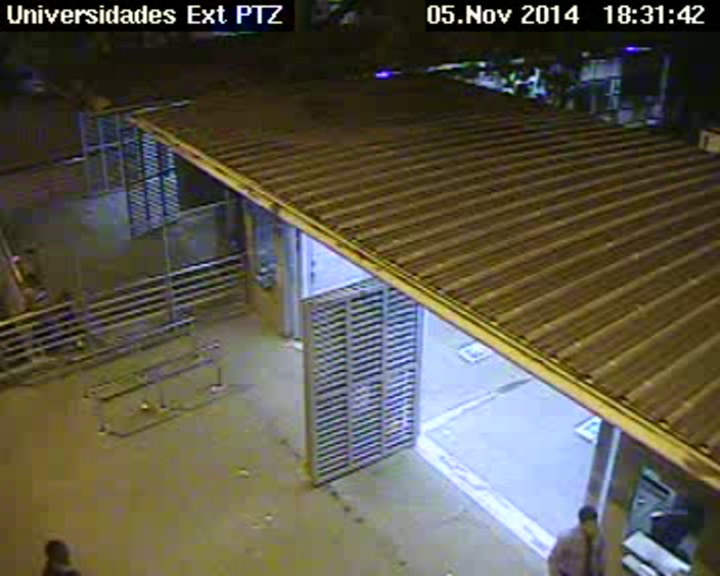person: (43, 537, 71, 564), (578, 505, 602, 534), (22, 249, 37, 263), (23, 274, 38, 287)
